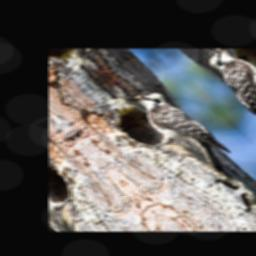Woodpecker: (109, 75, 253, 196)
